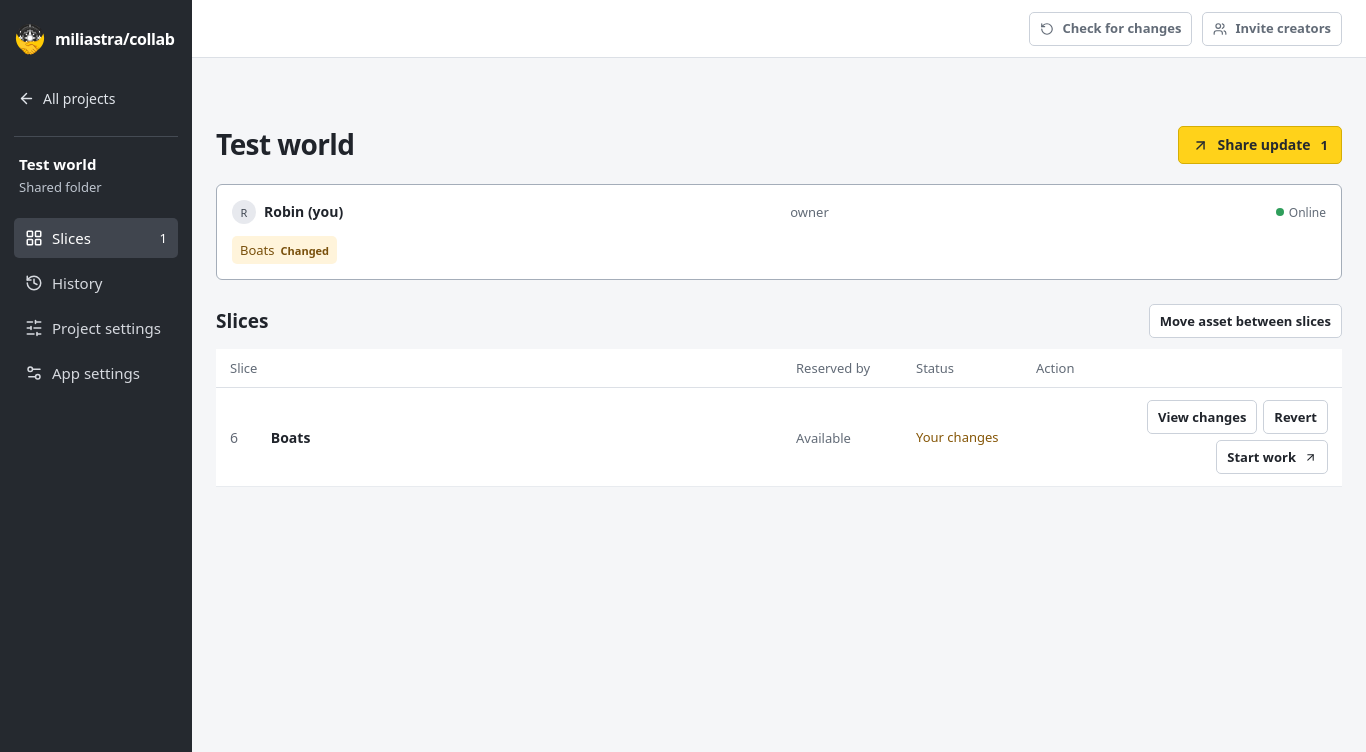
Test: offers overview navigation from Settings
Expected: the heading "Test world" is shown, [216,128,354,162]
Click the button "App settings".
click(96, 373)  # box [14,353,178,393]
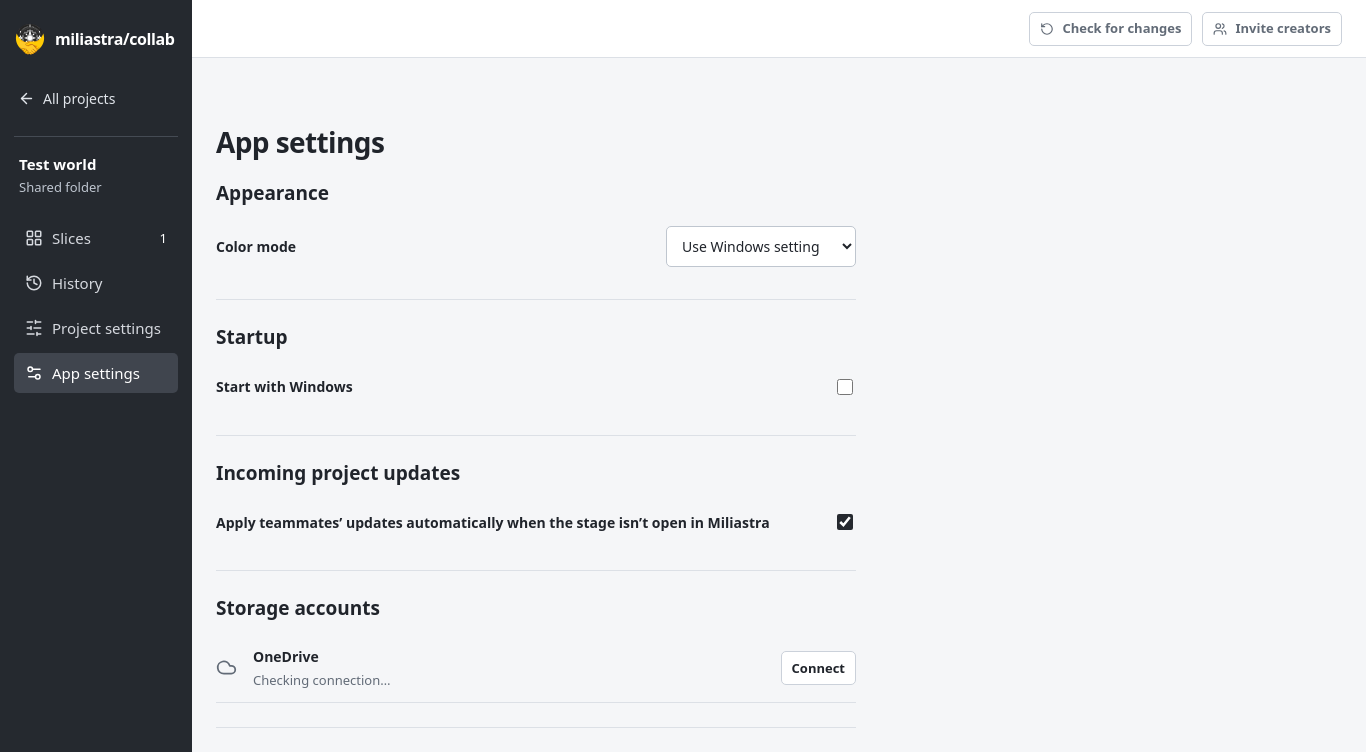
Click the button "All projects".
click(96, 98)  # box [14,78,178,118]
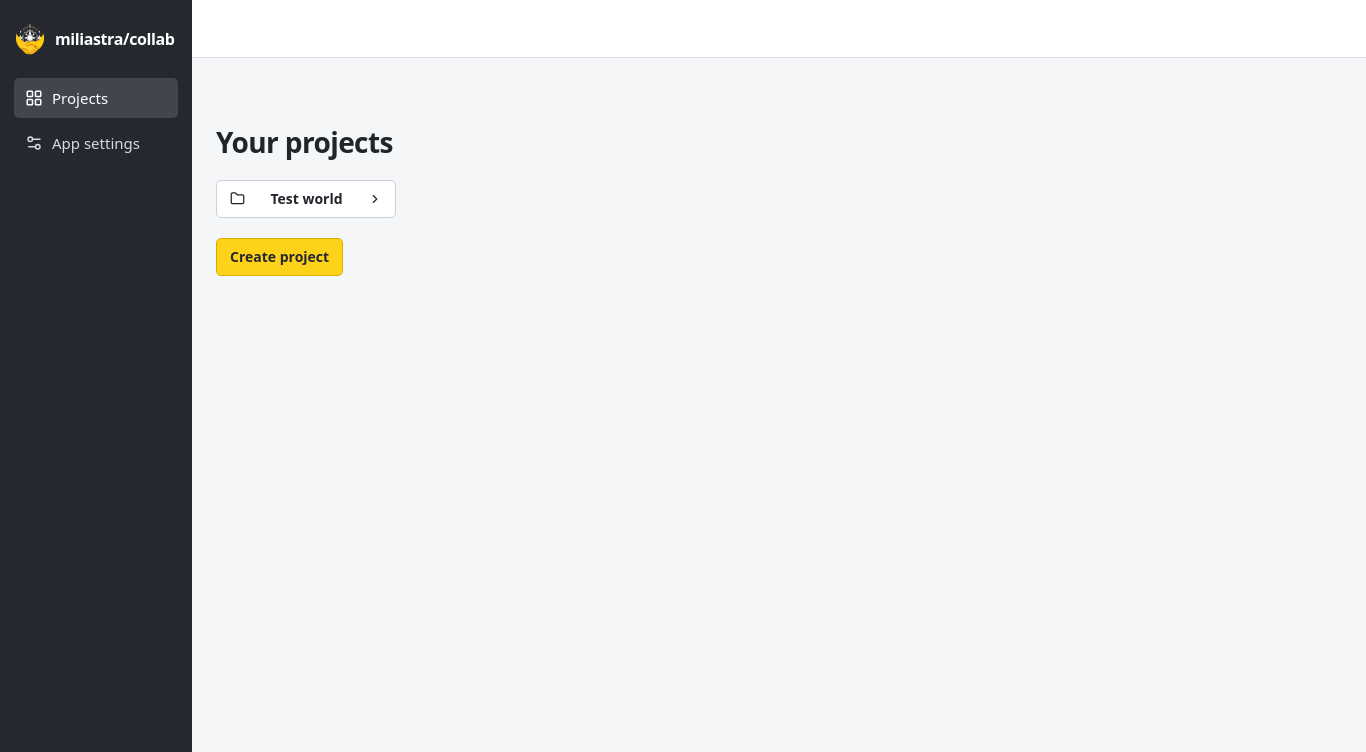
Now the heading "Your projects" is shown, box [216,126,393,160]
Now the button "All projects" is gone
